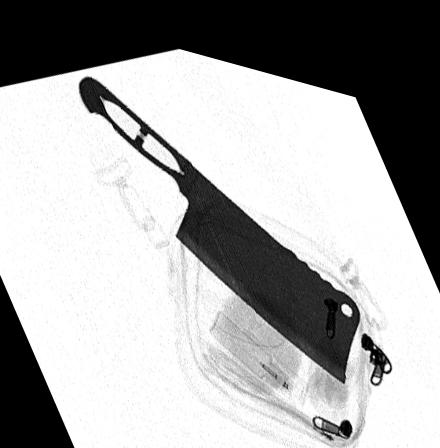Knife: (76, 71, 361, 365)
